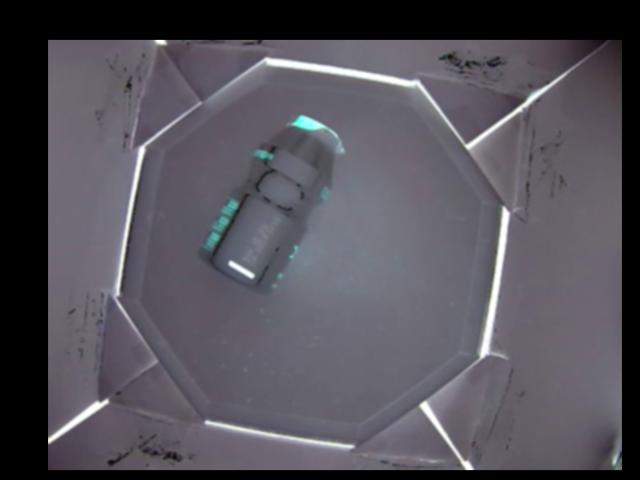Bottle: (199, 115, 345, 295)
